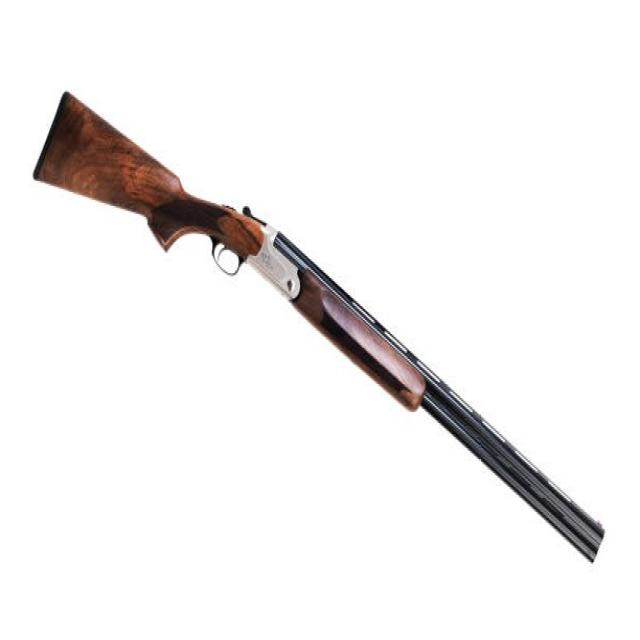rifle: (26, 81, 609, 574)
